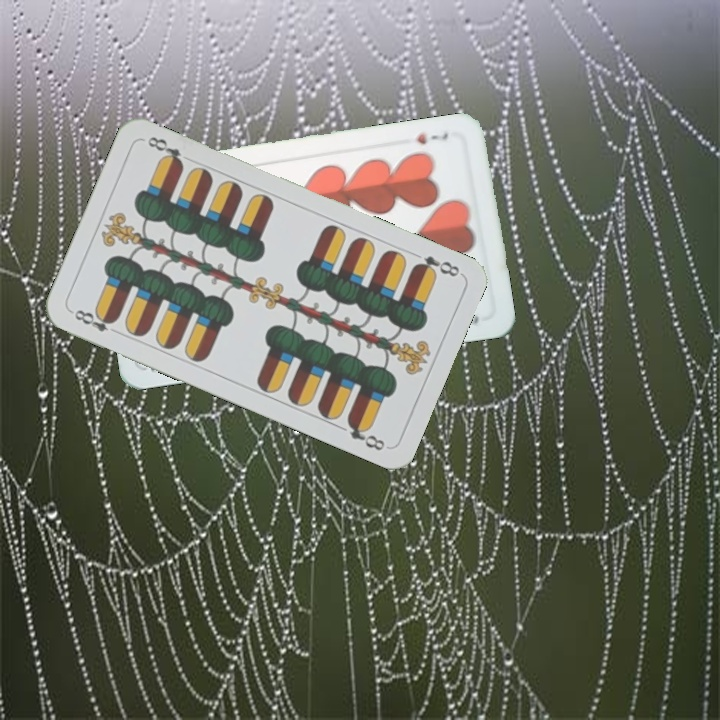E8: (67, 305, 123, 338), (409, 251, 463, 280)
H7: (412, 129, 451, 147)
